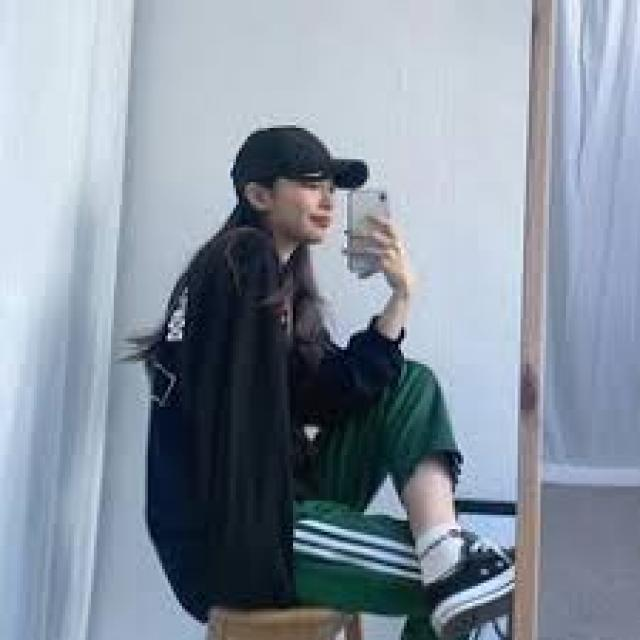Phone: (343, 188, 393, 276)
